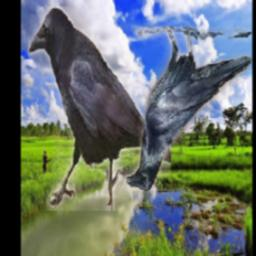Crow: (28, 8, 171, 212), (125, 28, 252, 192)
